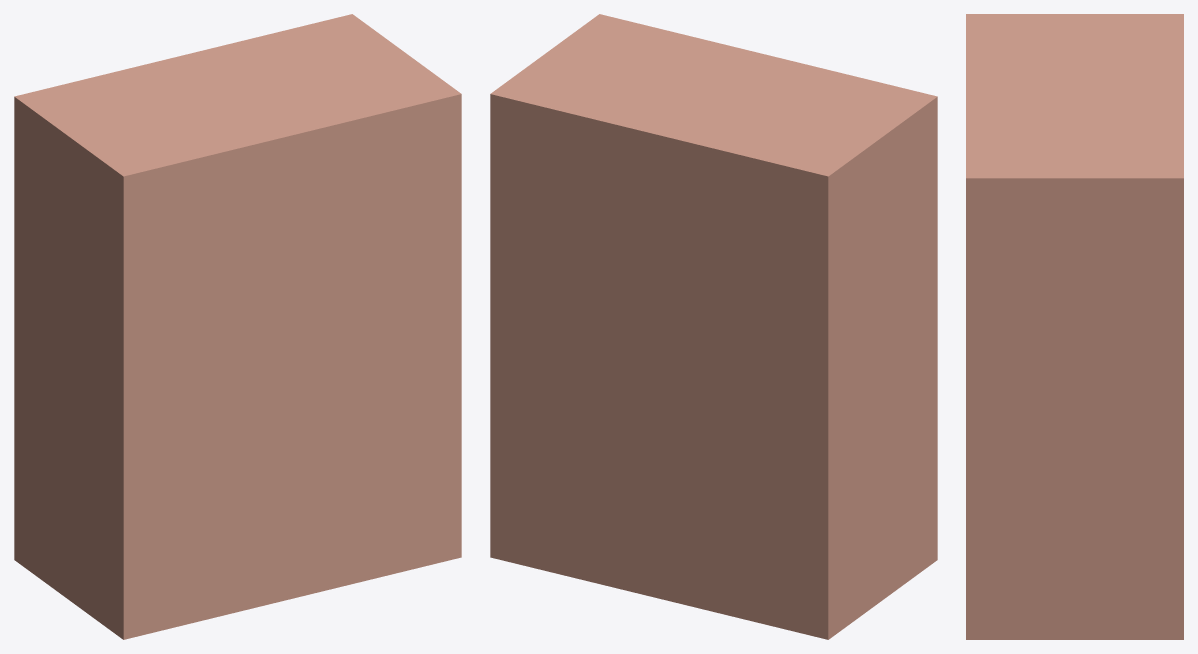
The model's file is ToyBox.fbx.
3 views of the same model, side by side, from view 1: azimuth 30°, elevation 25°; view 2: azimuth 150°, elevation 25°; view 3: azimuth 270°, elevation 25° (orthographic).
Parts seen in each view (by area): view 1: Boite jouet 1; view 2: Boite jouet 1; view 3: Boite jouet 1.
Part boxes in pixels (x1,y1,x2,y2): Boite jouet 1: (14, 14, 461, 639); Boite jouet 1: (490, 14, 937, 639); Boite jouet 1: (966, 14, 1183, 639).
Bounding box in the file's own units: 26.99 × 35.34 × 15.11.
